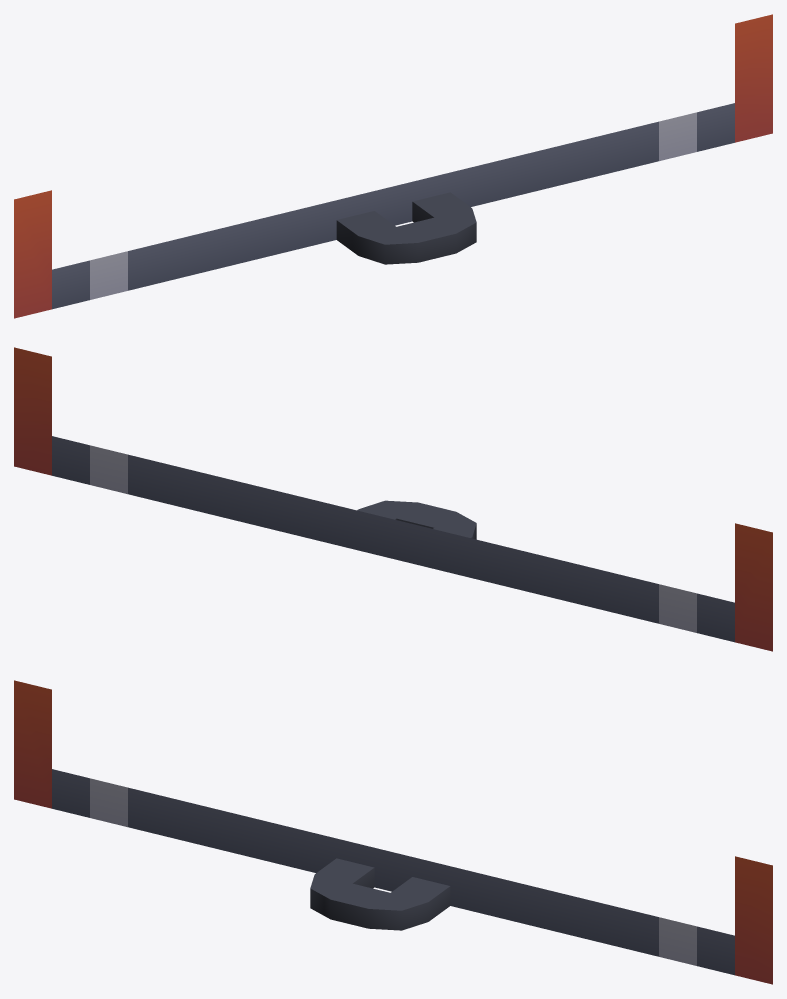
File: track-road-wide-cap-back.glb
3 views of the same model, one above another, from view 1: azimuth 30°, elevation 25°; view 2: azimuth 150°, elevation 25°; view 3: azimuth 330°, elevation 25° (orthographic).
Visible parts, largest first — view 1: track-road-wide-cap-back; view 2: track-road-wide-cap-back; view 3: track-road-wide-cap-back.
Part boxes in pixels (x1,y1,x2,y2): track-road-wide-cap-back: [14, 14, 772, 318]; track-road-wide-cap-back: [14, 347, 772, 651]; track-road-wide-cap-back: [14, 680, 772, 984].
Bounding box in the file's own units: 2 × 0.3 × 0.2.
